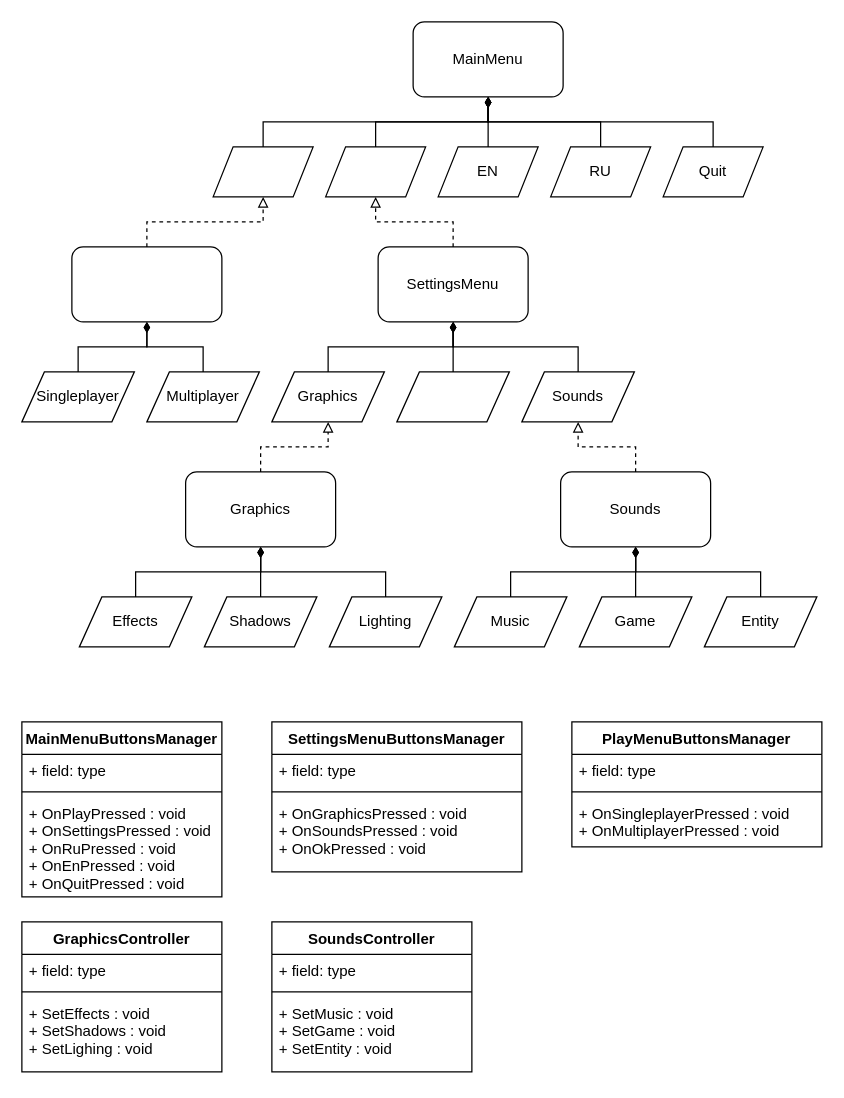
The diagram is 844 pixels wide and 1098 high, and some of its shapes have lost their labels. The centre of each missing label's shape, as x and y in pixels:
"OK" belongs at (x=452, y=396).
"Play" belongs at (x=262, y=171).
"PlayMenu" belongs at (x=146, y=284).
"Settings" belongs at (x=375, y=171).
